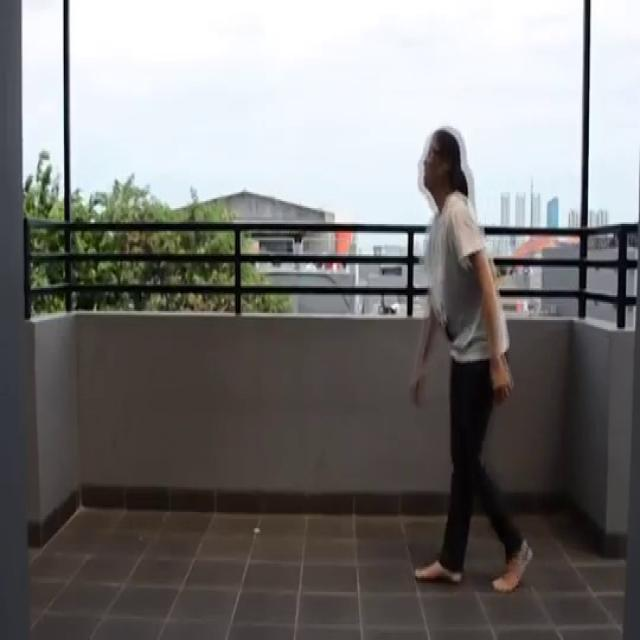normal: (401, 114, 545, 606)
